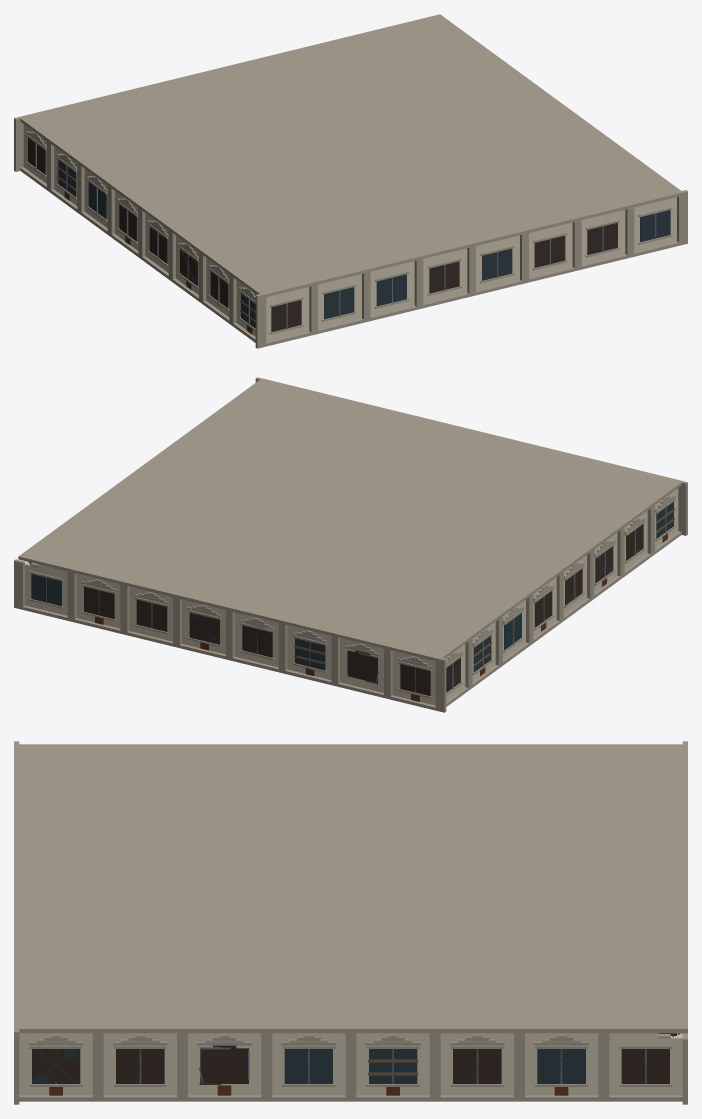
Rendered from tw_deco_32_floor_c.glb.
3 renders of one model, top to bottom at view 1: azimuth 30°, elevation 25°; view 2: azimuth 150°, elevation 25°; view 3: azimuth 270°, elevation 25°, orthographic. The views are drawn at different scales.
Visible parts, largest first — view 1: tw_deco_32_floor_c; view 2: tw_deco_32_floor_c; view 3: tw_deco_32_floor_c.
Boxes of the visible parts, <box> form: tw_deco_32_floor_c: <box>14,14,687,348</box>; tw_deco_32_floor_c: <box>14,377,687,712</box>; tw_deco_32_floor_c: <box>14,741,687,1104</box>.
Size of the model in its own units: 32.68 by 3.8 by 32.
Materials: 2 (2 with a texture image).
